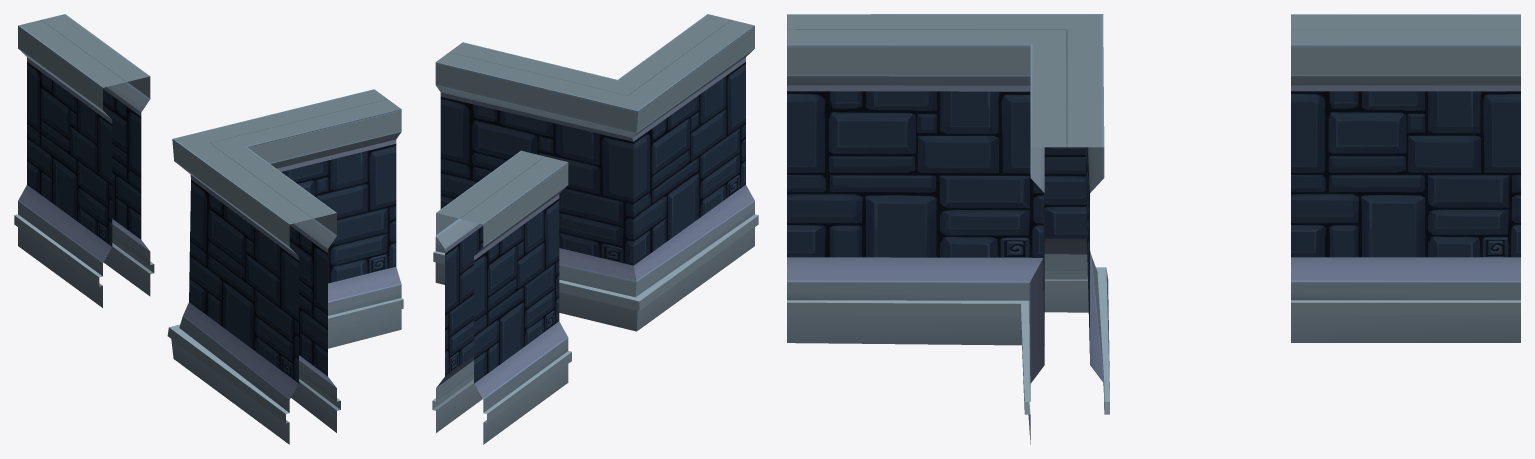
File: SagaAula4.fbx
3 views of the same model, side by side, from view 1: azimuth 30°, elevation 25°; view 2: azimuth 150°, elevation 25°; view 3: azimuth 270°, elevation 25° (orthographic). The views are drawn at different scales.
Parts seen in each view (by area): view 1: Plane, Plane.002; view 2: Plane, Plane.002; view 3: Plane, Plane.002.
Part boxes in pixels (left/top/right/bottom): Plane: left=167, top=89, right=403, bottom=444; Plane.002: left=14, top=14, right=154, bottom=307; Plane: left=433, top=14, right=758, bottom=331; Plane.002: left=432, top=150, right=571, bottom=444; Plane: left=787, top=14, right=1109, bottom=444; Plane.002: left=1291, top=14, right=1520, bottom=342.
Size of the model in its own units: 391 by 400 by 894.
